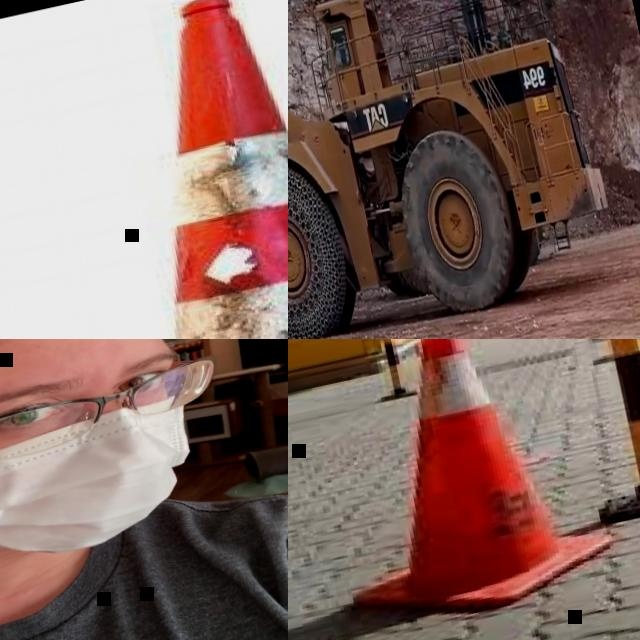Mask: (0, 391, 220, 594)
NO-Safety Vest: (0, 462, 288, 640)
Person: (0, 339, 288, 640), (341, 39, 352, 67)
Safety Cone: (0, 0, 288, 339), (296, 339, 609, 639)
machinery: (288, 0, 632, 339)
